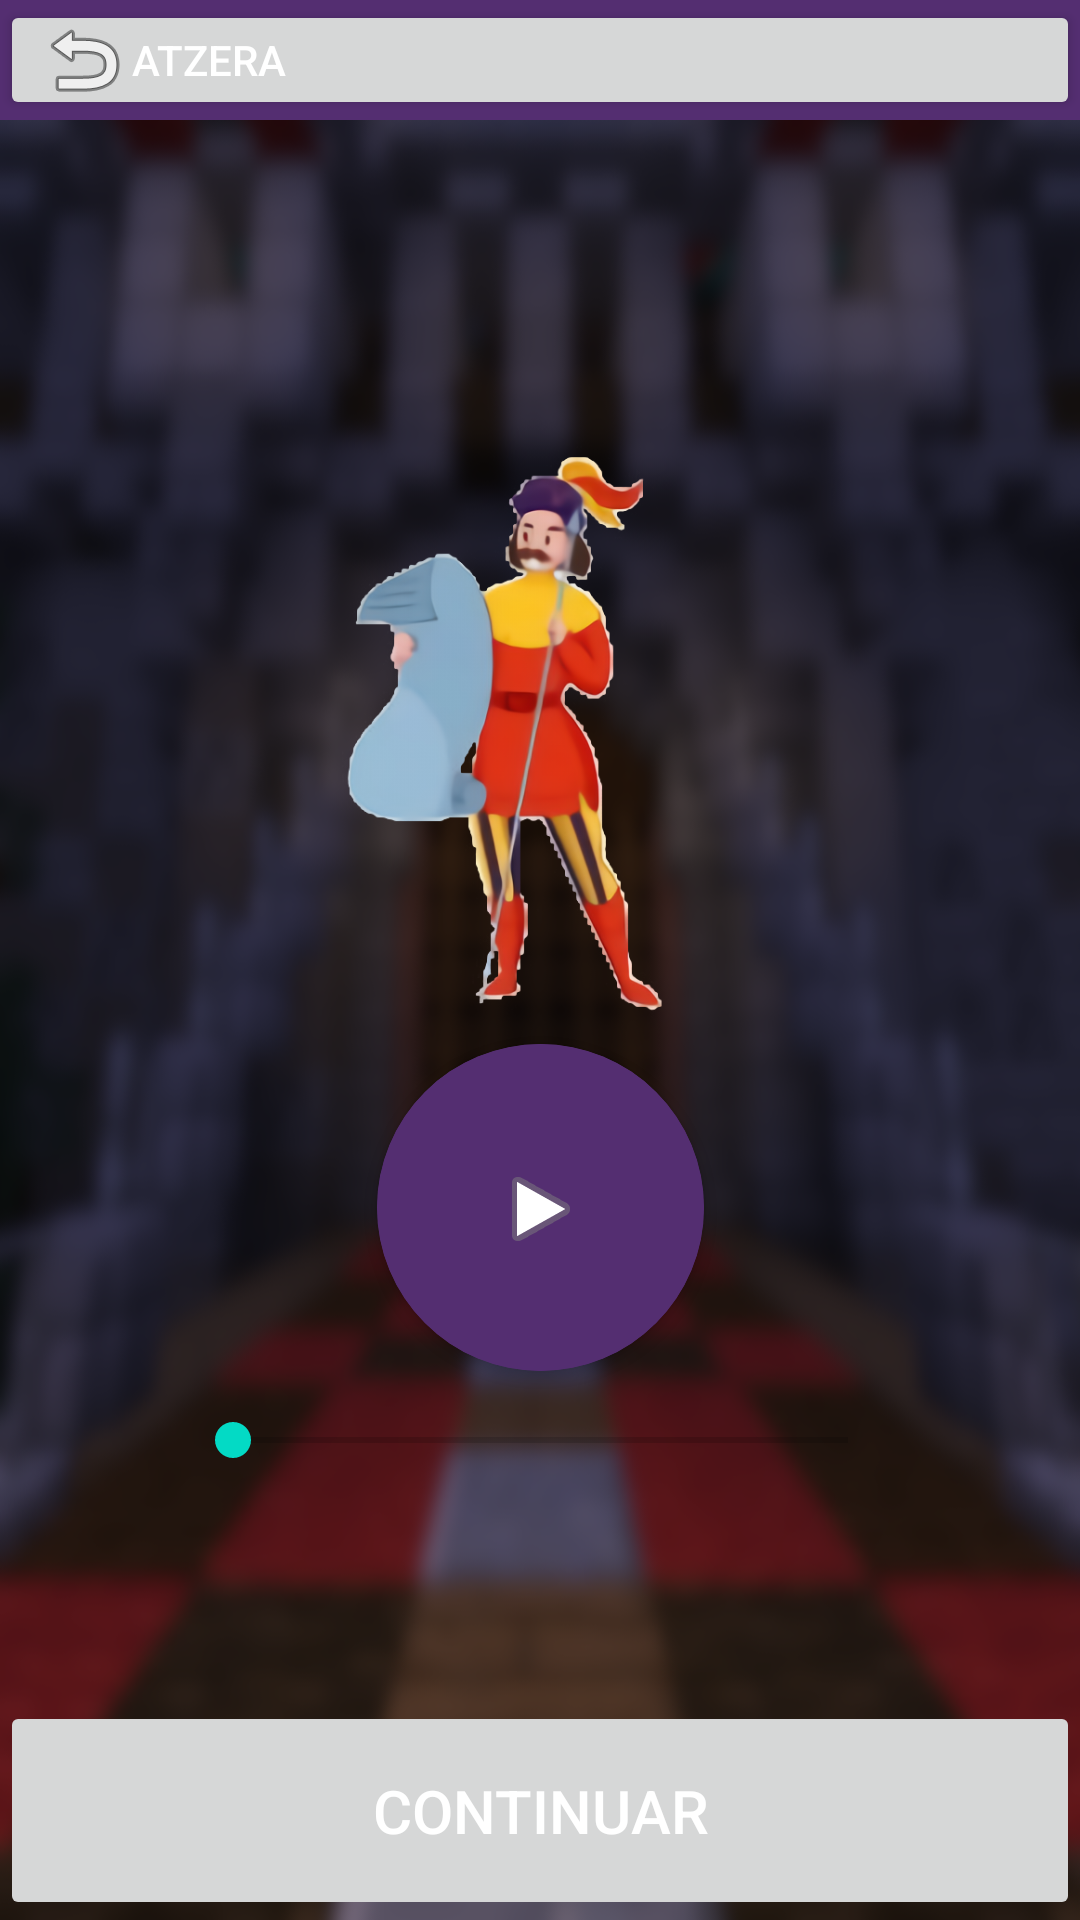

Icons on this 1080px×1920px Android screen, each with the point to tap as [x,y]:
play: [540,1207]
